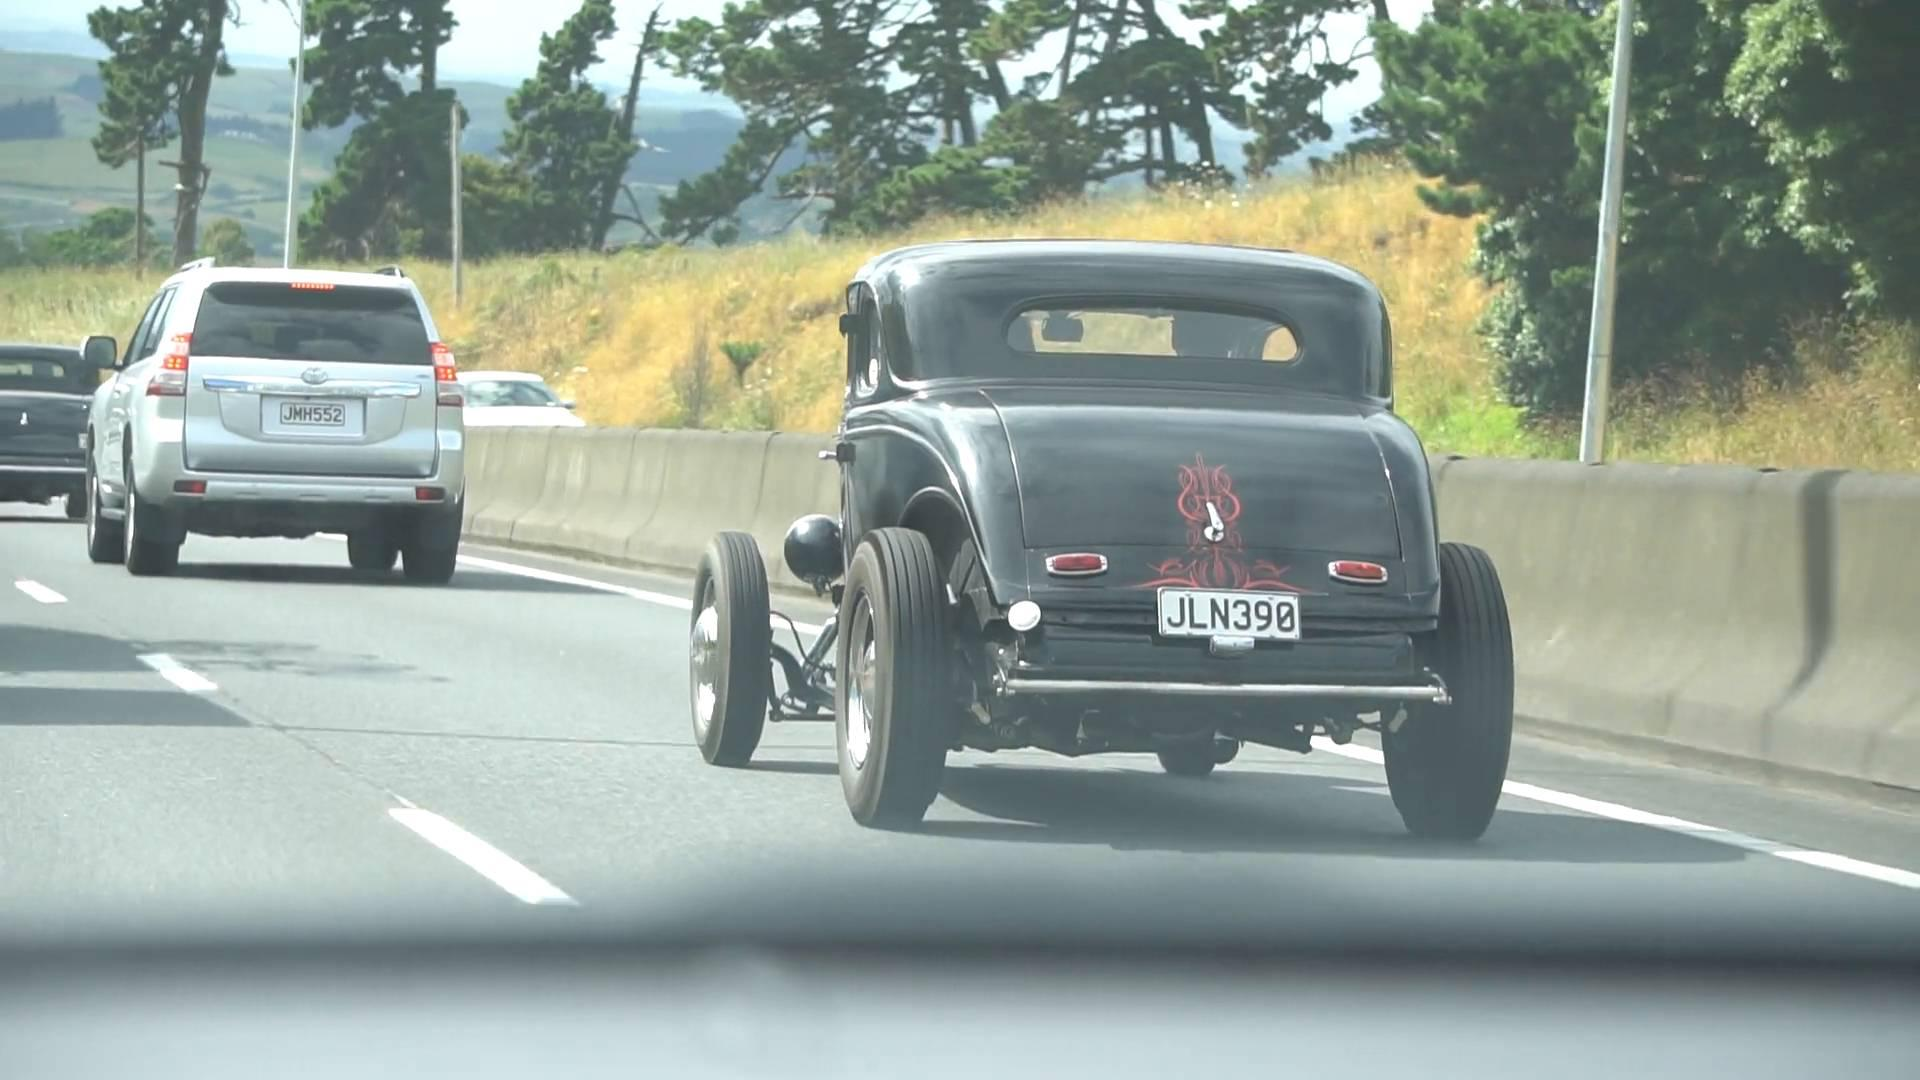car: (675, 229, 1517, 843), (67, 259, 460, 581)
license_plate: (1156, 586, 1305, 646), (279, 394, 349, 426)
